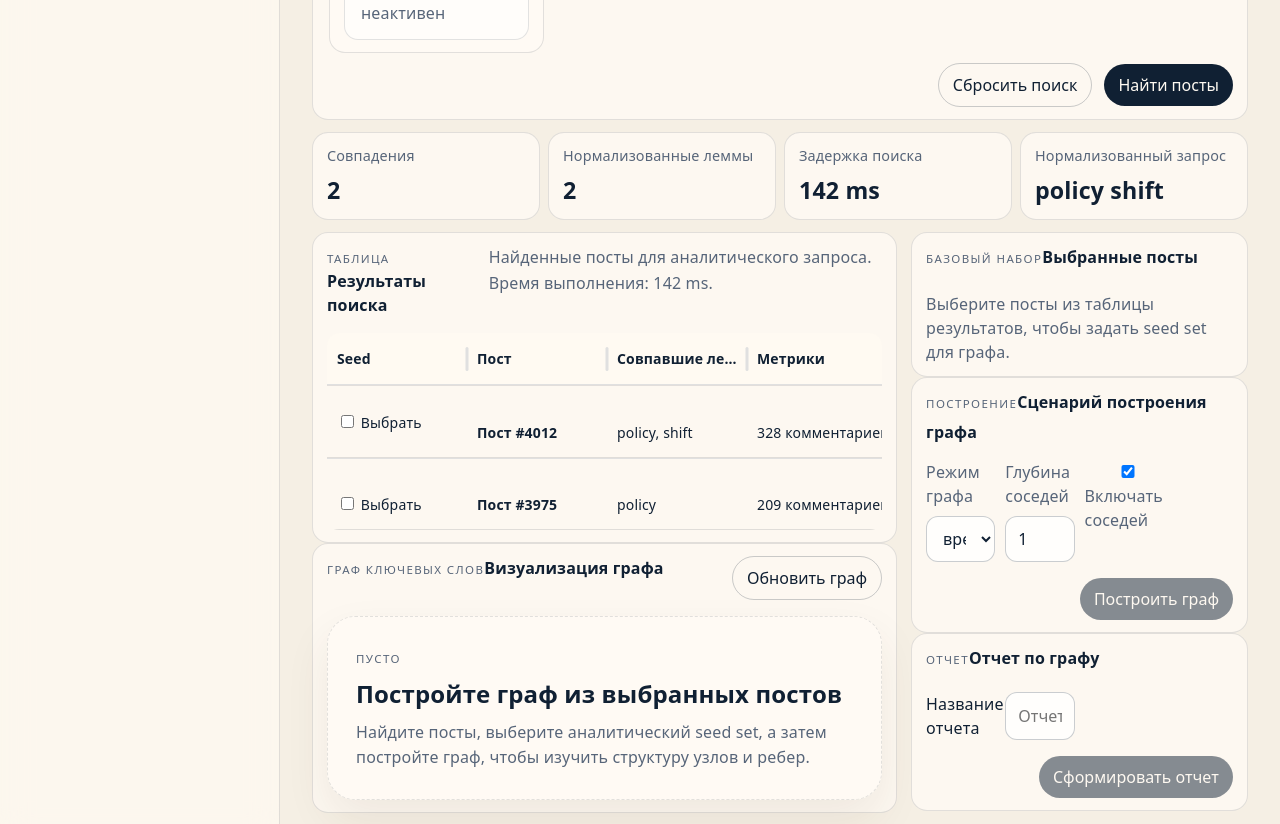
Test: Keyword graph page › builds graph and generates a report from selected posts
(page scrolled)
Click the checkbox labelled "Выбрать" in the row of "Пост #4012" at (348, 422), box top-left (341, 416), bottom-right (354, 428)
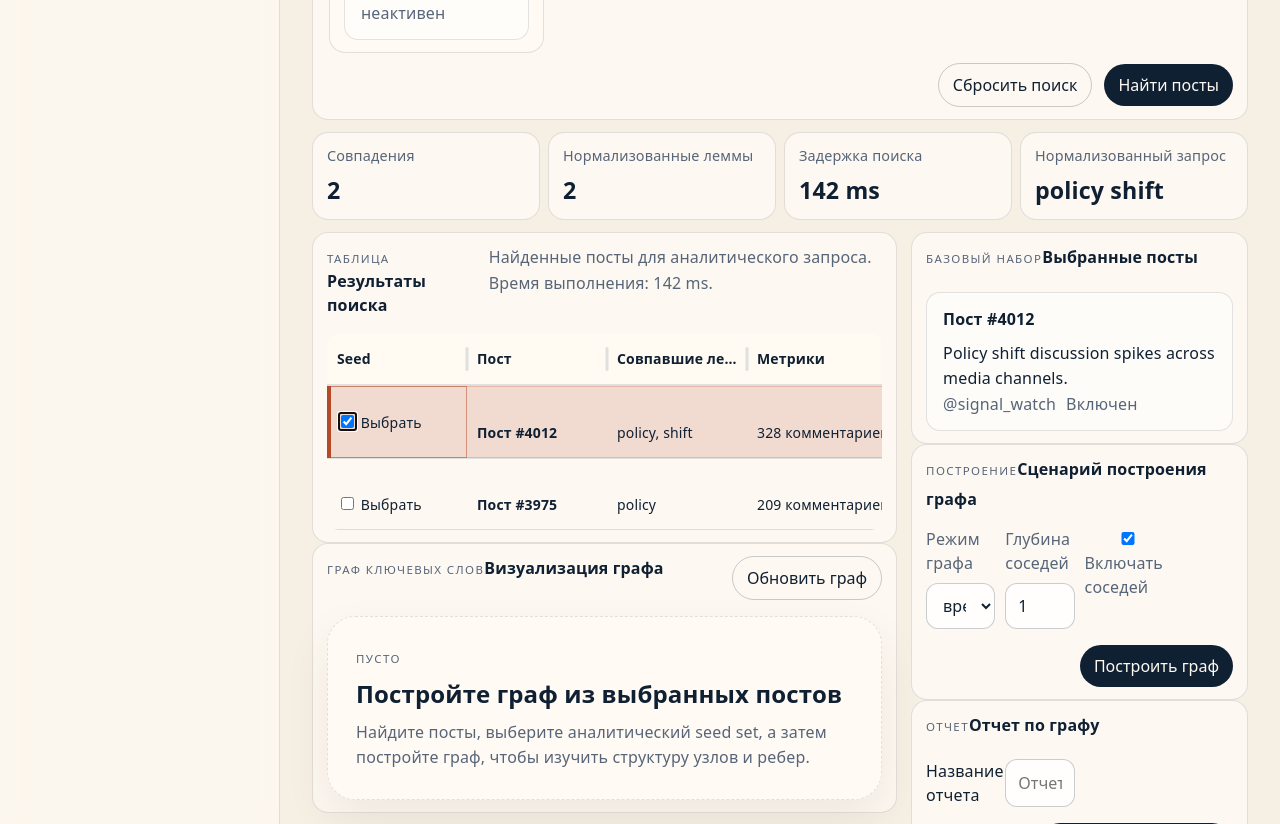
Click the button "Построить граф" at (1156, 666), box top-left (1080, 645), bottom-right (1233, 687)
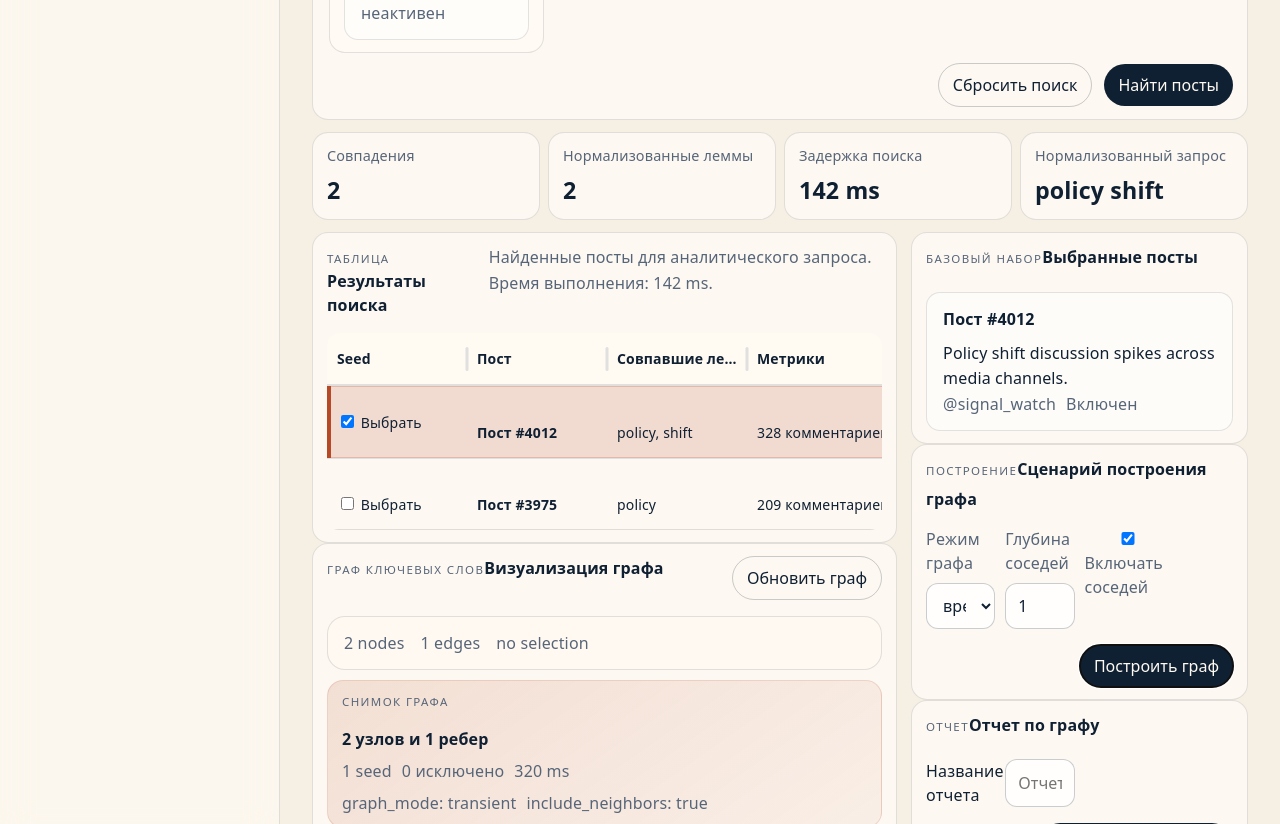
Type "Policy graph report" into the field named "Название отчета по графу" at (1040, 783), box top-left (1005, 759), bottom-right (1074, 807)
(page scrolled)
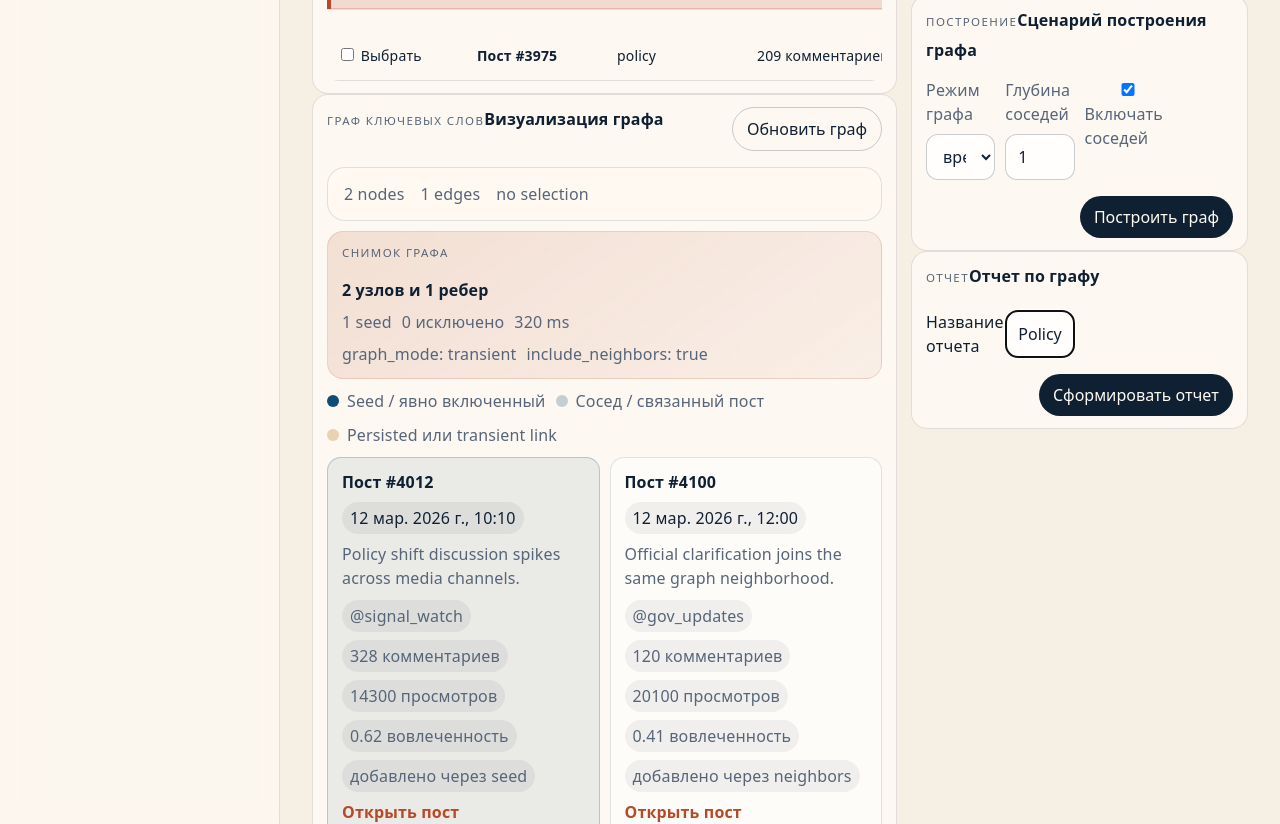
Click the button "Сформировать отчет" at (1136, 395), box top-left (1039, 374), bottom-right (1233, 416)
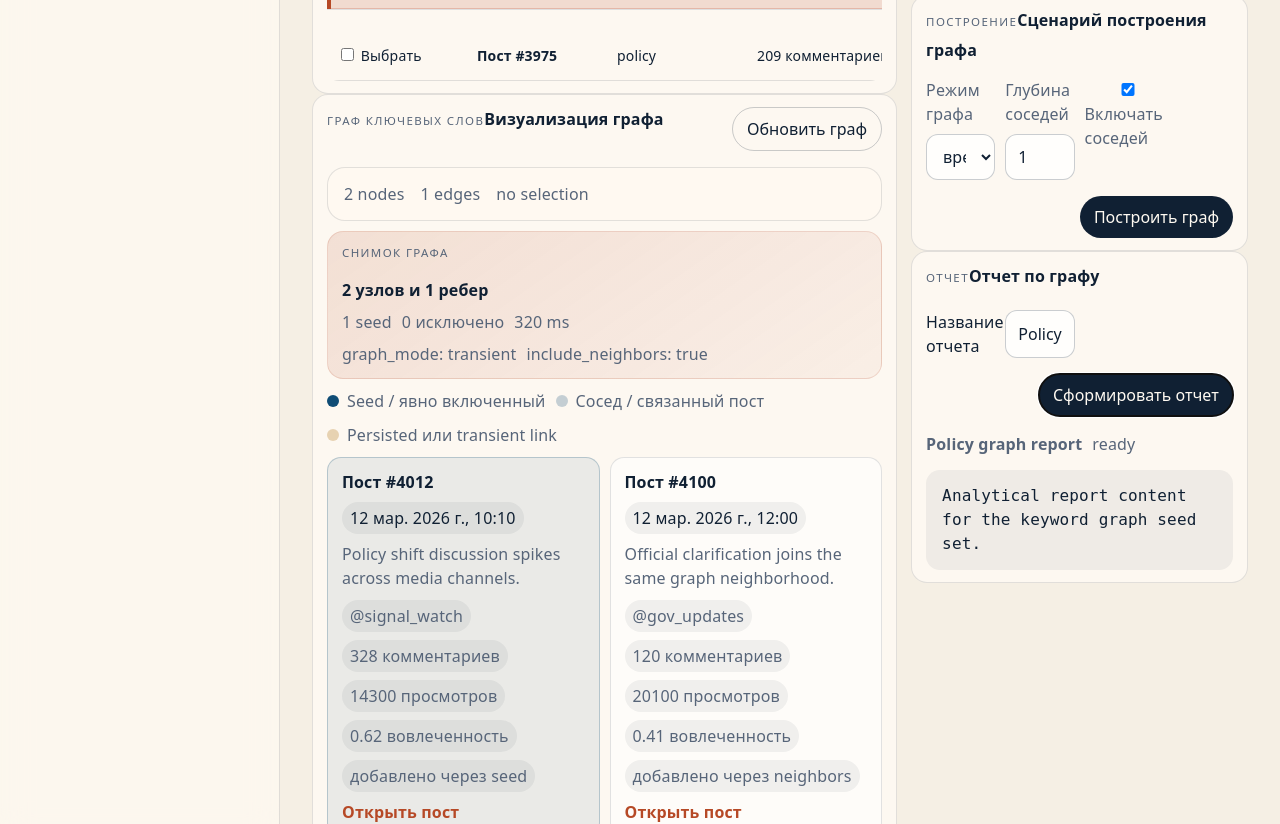
Result: the text "Analytical report content for the keyword graph seed set." is shown at top-left (926, 470), bottom-right (1233, 570)
